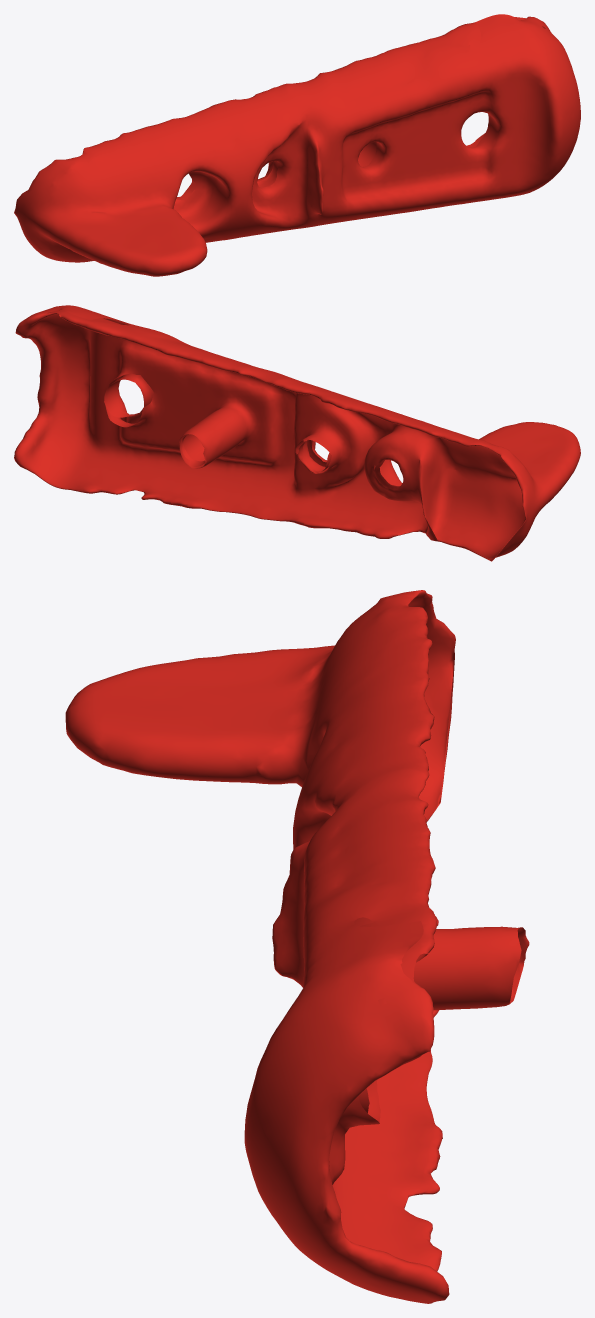
Rendered from UpperBody.obj.
3 views of the same model, one above another, from view 1: azimuth 30°, elevation 25°; view 2: azimuth 150°, elevation 25°; view 3: azimuth 270°, elevation 25° (orthographic). The views are drawn at different scales.
Parts seen in each view (by area): view 1: UpperBody; view 2: UpperBody; view 3: UpperBody.
Boxes of the visible parts, bbox=[...] form: UpperBody: bbox=[14, 14, 580, 276]; UpperBody: bbox=[14, 305, 580, 561]; UpperBody: bbox=[65, 590, 529, 1303].
Size of the model in its own units: 0.2389 by 0.0772 by 0.0922.
Materials: 1 (1 with a texture image).
